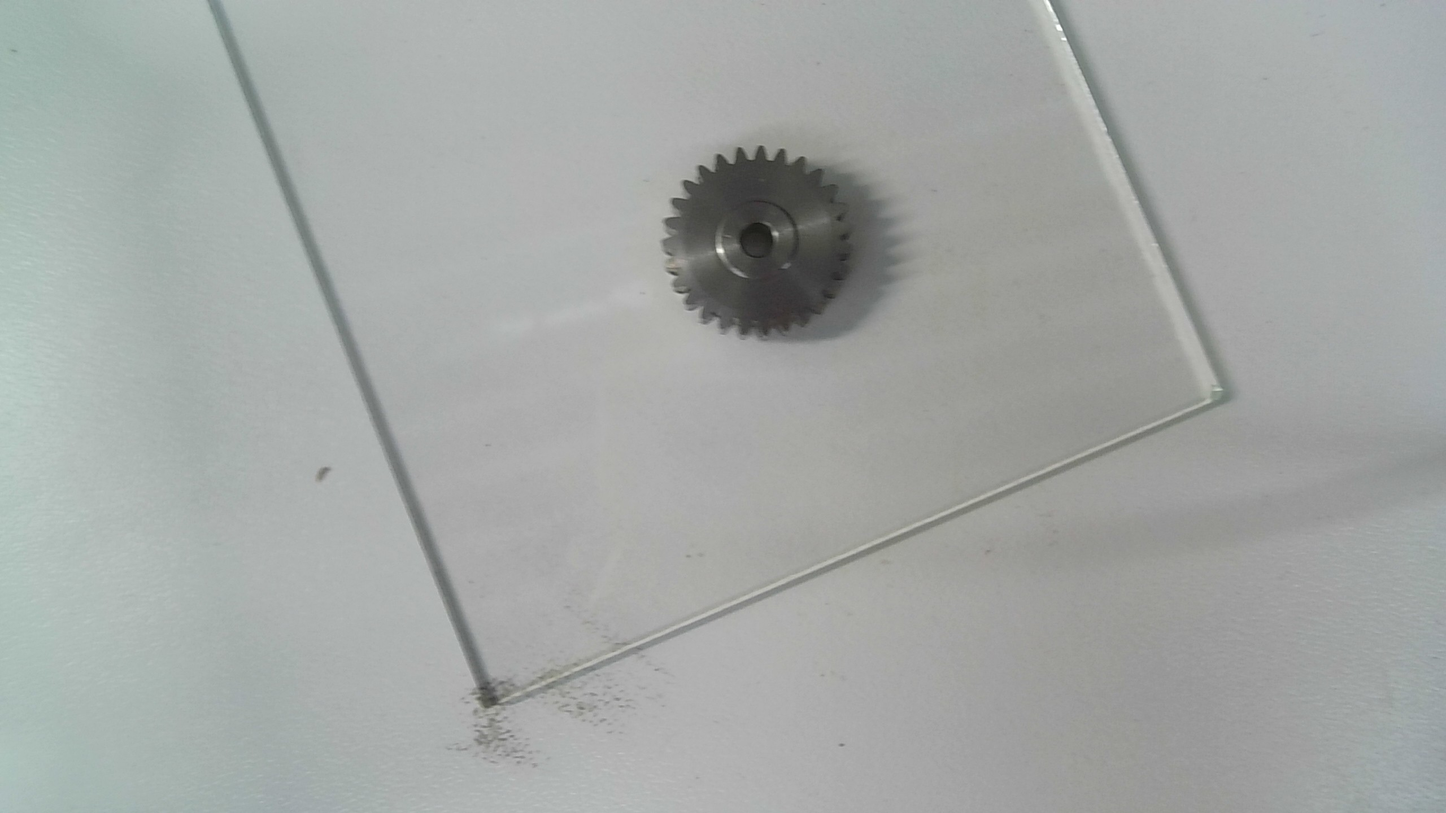gear: (659, 142, 852, 342)
